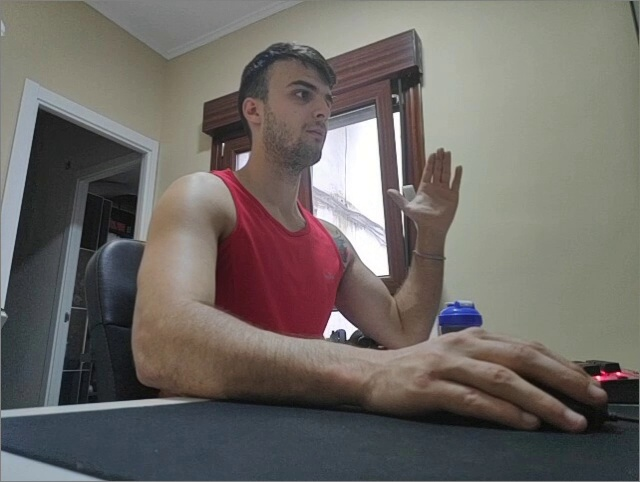Palm: (385, 143, 463, 230)
